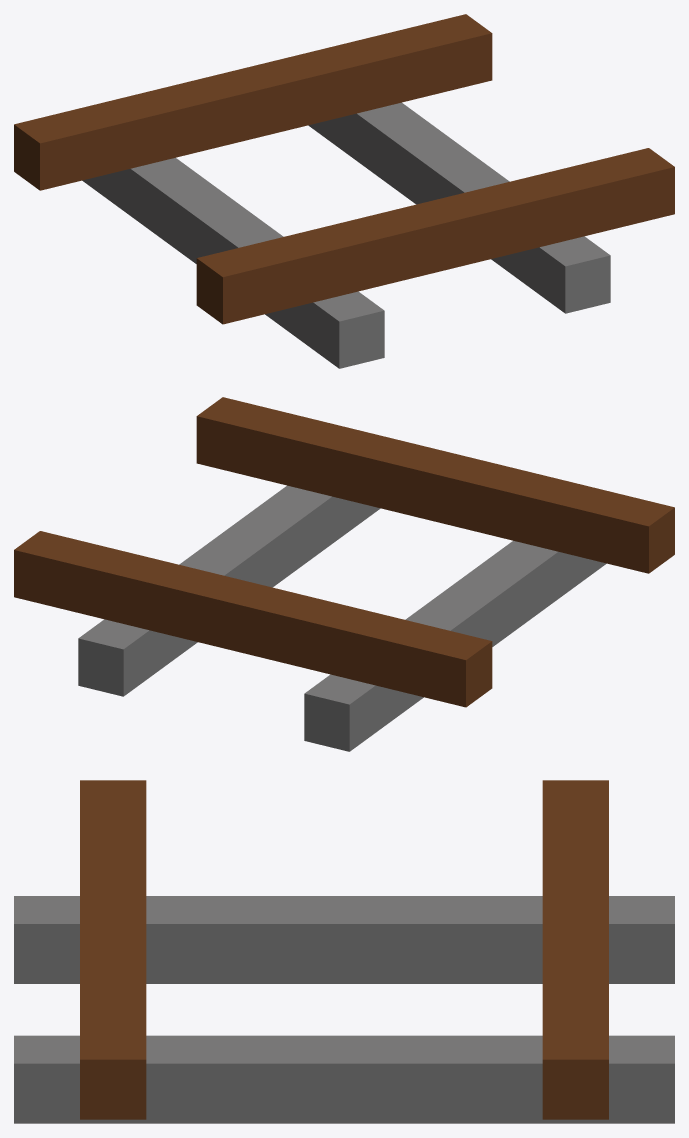
File: rail.dae
The picture shows the model from 3 angles, top to bottom: view 1: azimuth 30°, elevation 25°; view 2: azimuth 150°, elevation 25°; view 3: azimuth 270°, elevation 25°; orthographic projection. The views are drawn at different scales.
Visible parts, largest first — view 1: rail; view 2: rail; view 3: rail.
Boxes of the visible parts, bbox=[...] form: rail: bbox=[14, 14, 674, 368]; rail: bbox=[14, 397, 674, 751]; rail: bbox=[14, 780, 674, 1123].
Bounding box in the file's own units: 1 × 0.2 × 1.
1 material, 1 textured.
